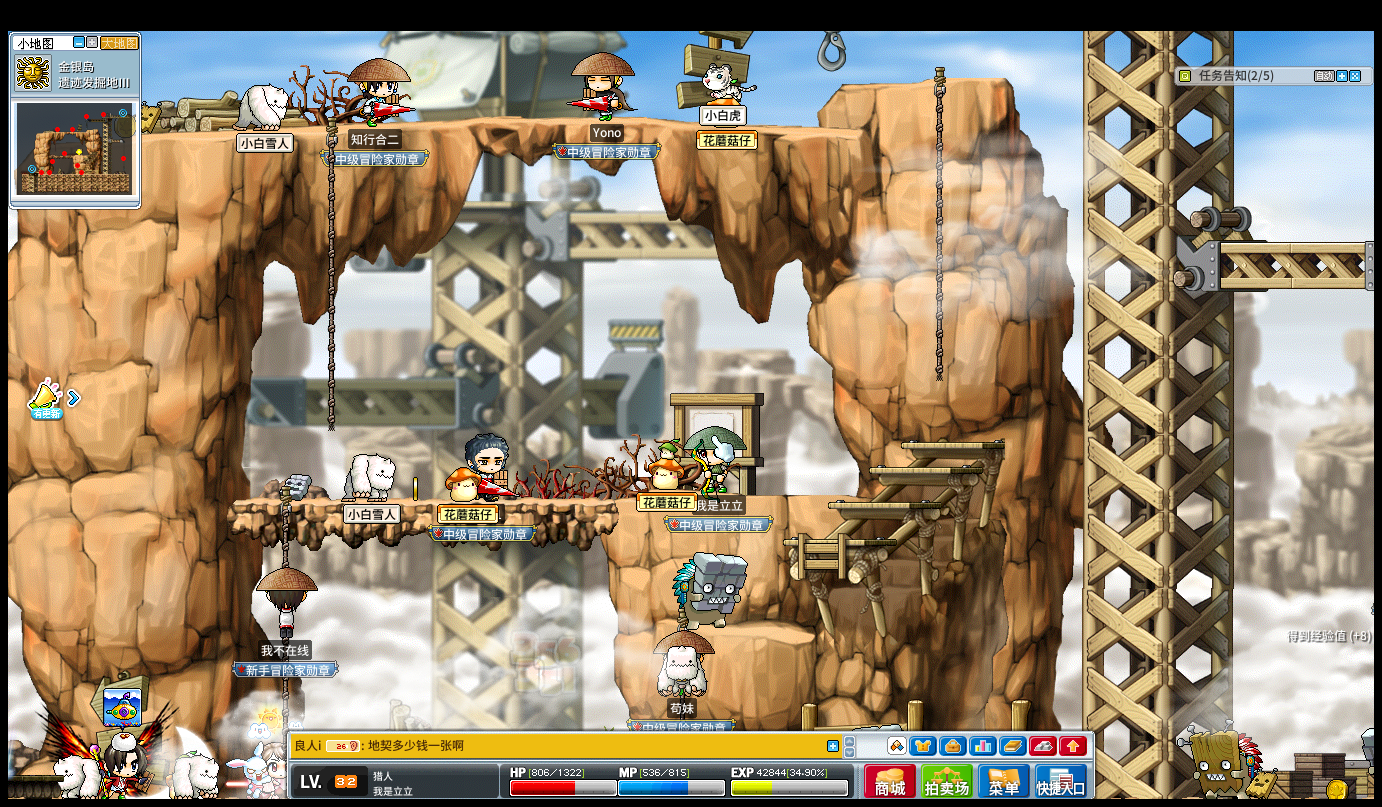floor: (229, 496, 612, 507), (1219, 234, 1372, 257), (228, 497, 471, 508), (696, 622, 815, 644), (840, 73, 1015, 87), (839, 76, 1013, 90), (779, 536, 895, 550), (685, 491, 863, 500), (780, 533, 894, 545), (864, 464, 979, 474), (827, 498, 939, 508), (902, 440, 1006, 449)
monster: (1180, 723, 1262, 794), (672, 552, 747, 629), (1364, 721, 1381, 793)
rope: (931, 60, 946, 385), (325, 115, 336, 432), (277, 484, 291, 567)
